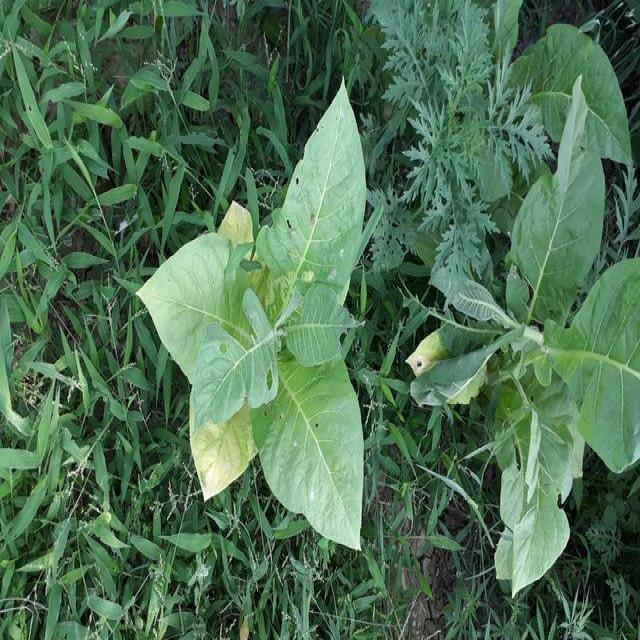crop: (145, 107, 371, 546), (494, 118, 640, 582)
